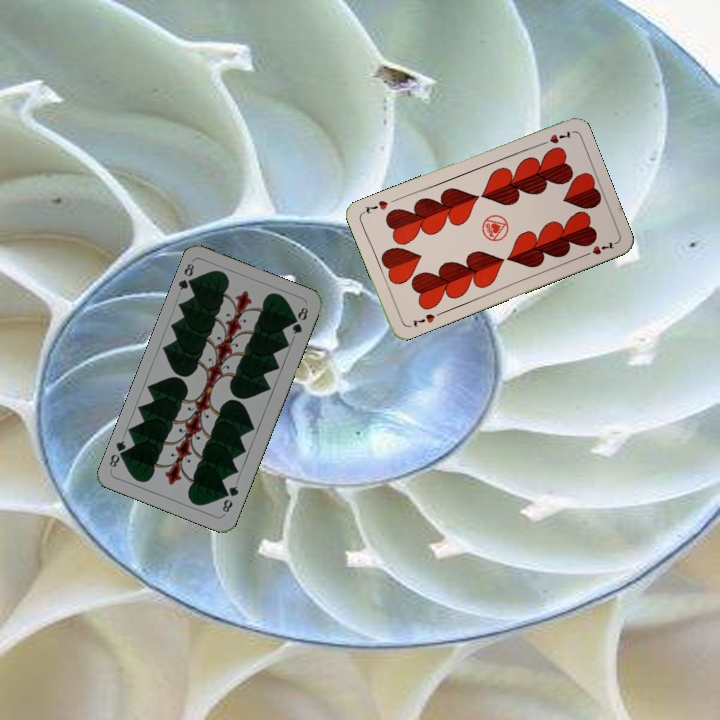G8: (174, 259, 199, 293), (218, 482, 241, 515)
H7: (535, 127, 574, 148), (408, 308, 443, 330)
